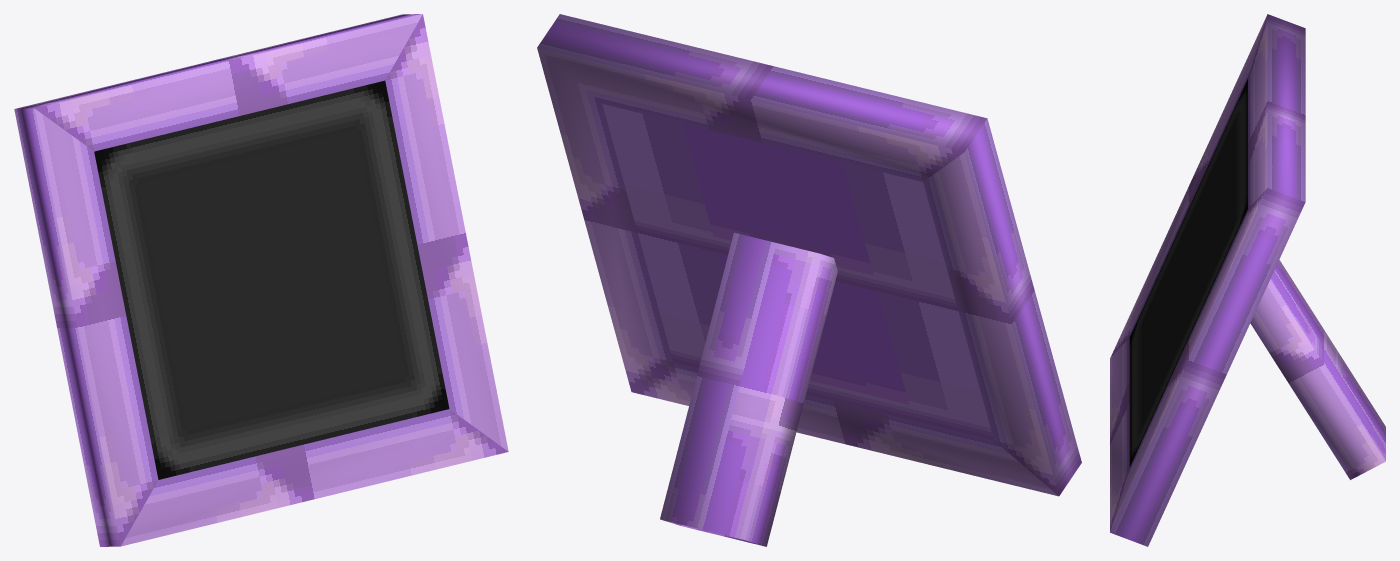
The model's file is Bromide.dae.
The picture shows the model from 3 angles, left to right: view 1: azimuth 30°, elevation 25°; view 2: azimuth 150°, elevation 25°; view 3: azimuth 270°, elevation 25°; orthographic projection. The views are drawn at different scales.
Parts seen in each view (by area): view 1: Bromide; view 2: Bromide; view 3: Bromide.
Part boxes in pixels (bbox=[...]): Bromide: bbox=[14, 14, 508, 546]; Bromide: bbox=[537, 14, 1081, 546]; Bromide: bbox=[1110, 14, 1385, 546].
Bounding box in the file's own units: 20 × 19.4 × 13.41.
Materials: 2 (2 with a texture image).
